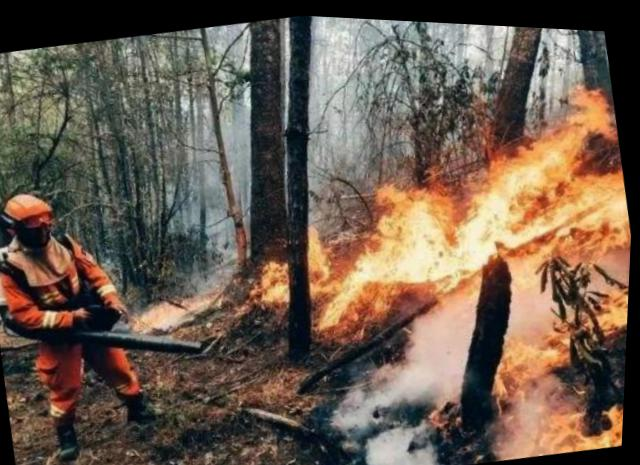fire: (246, 63, 638, 463)
